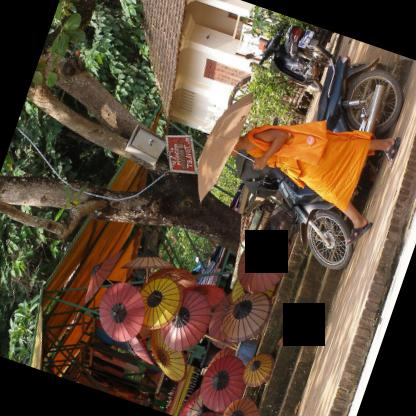handbag: (247, 118, 329, 168)
